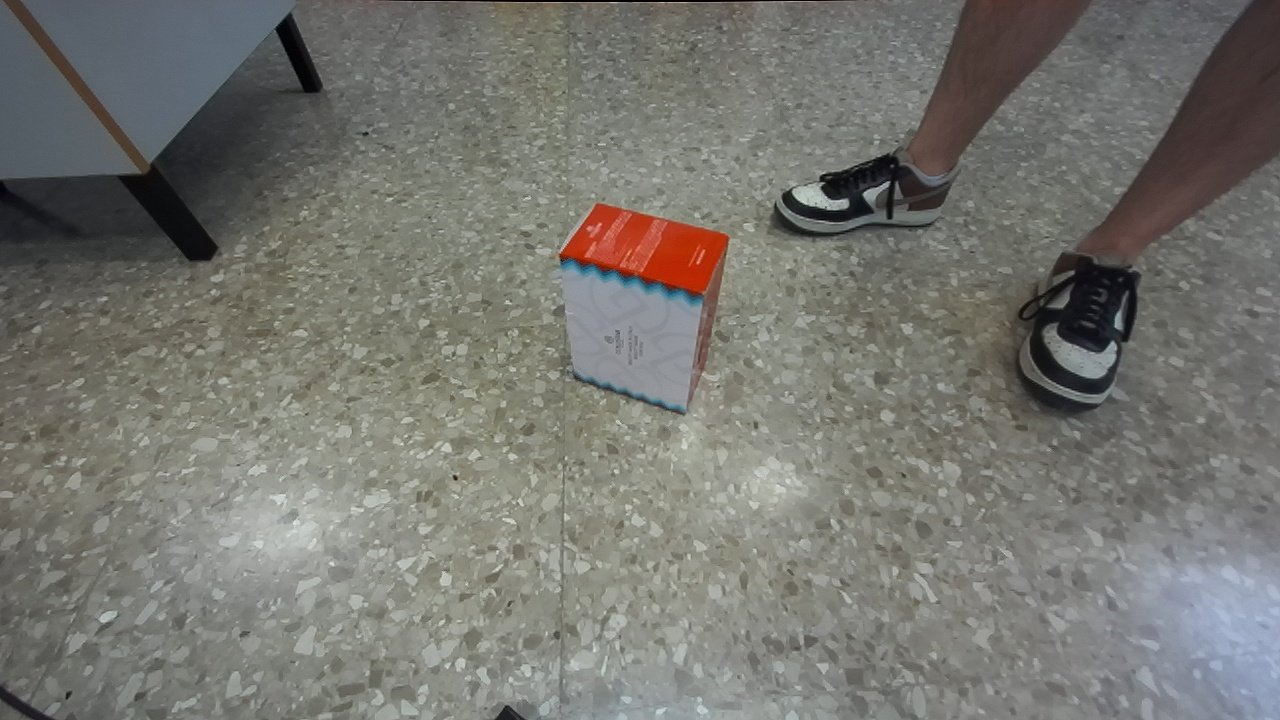caja_busbar: (559, 204, 727, 411)
